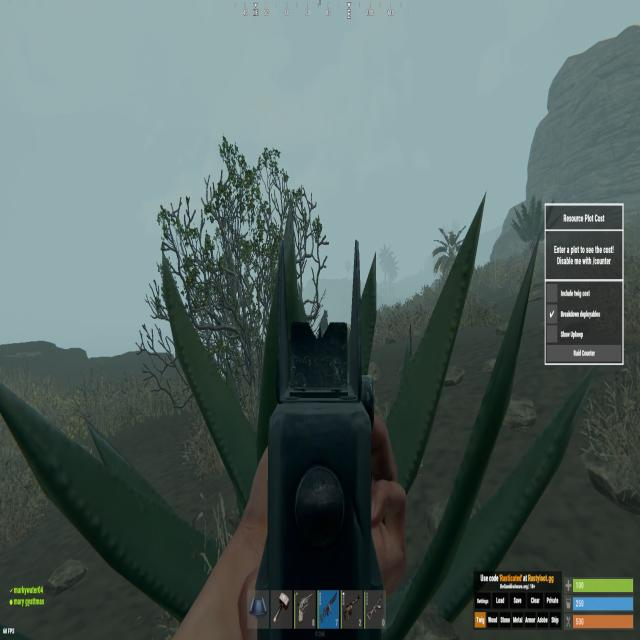Player: (317, 304, 331, 338)
